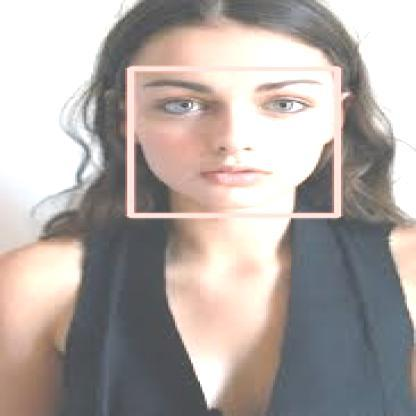without_mask: (130, 68, 337, 215)
